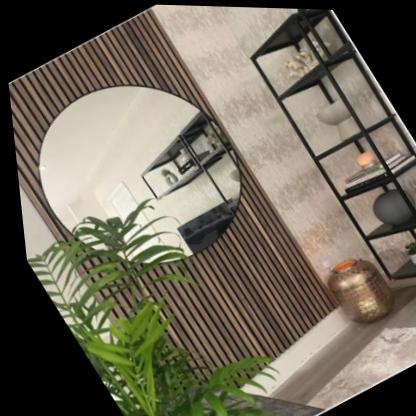Wall Panel: (0, 0, 365, 416)
